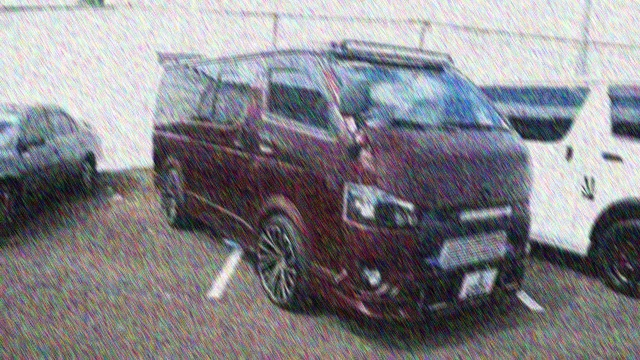van: (147, 39, 539, 332)
